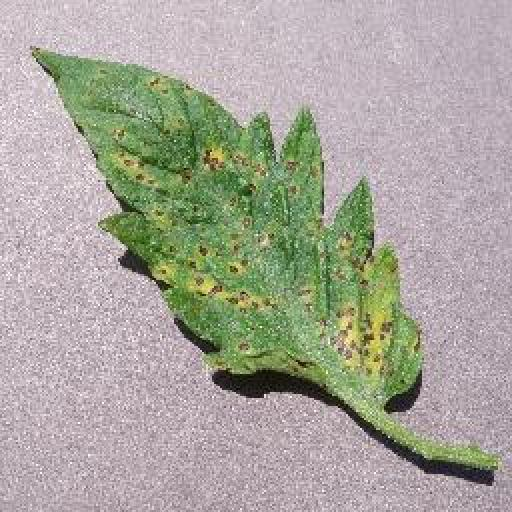disease_tomato: (38, 44, 425, 407)
